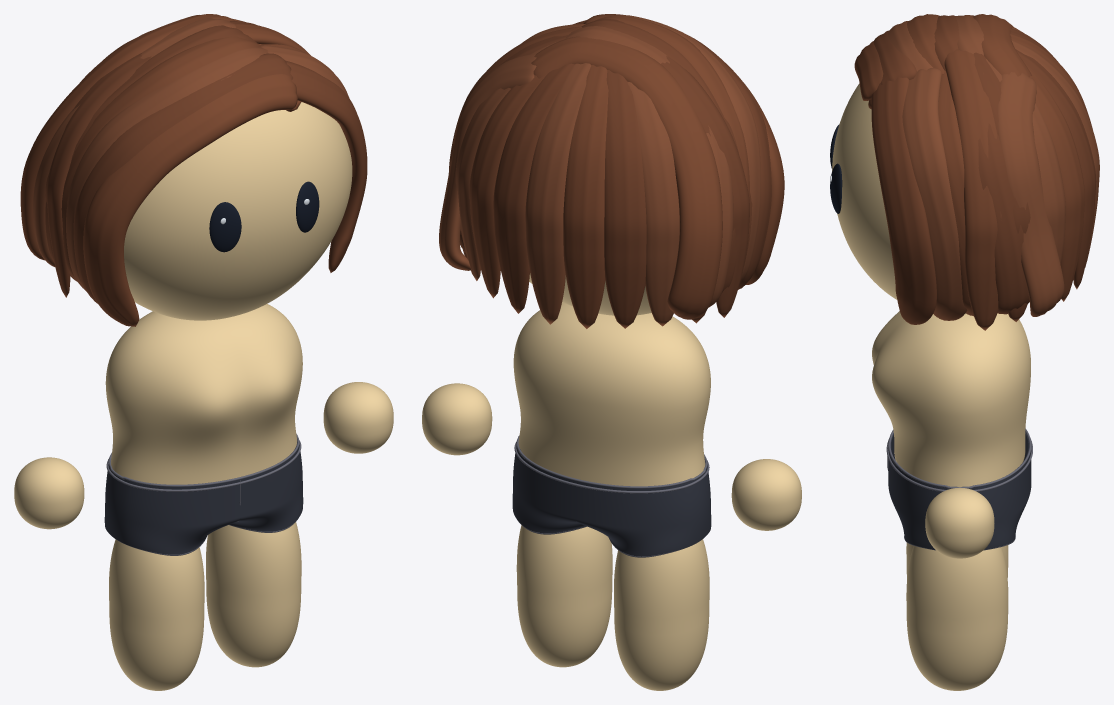
Rendered from Feminine-base.glb.
3 renders of one model, left to right at view 1: azimuth 30°, elevation 25°; view 2: azimuth 150°, elevation 25°; view 3: azimuth 270°, elevation 25°, orthographic.
Visible parts, largest first — view 1: Skin / soft oval head, Skin / rounded torso, Hair / Bob / side sweep 0, Skin / leg blob -1, Skin / leg blob 1, Clothing / fixed shorts, Hair / Bob / side sweep 1, Hair / Bob / side sweep 2, Hair / Bob / side sweep 7, Hair / Bob / side sweep 22, Hair / Bob / side sweep 3, Hair / Bob / side sweep 6 (+10 smaller); view 2: Skin / rounded torso, Hair / Bob / side sweep 6, Skin / leg blob -1, Clothing / fixed shorts, Skin / leg blob 1, Hair / Bob / side sweep 19, Hair / Bob / side sweep 18, Hair / Bob / side sweep 17, Hair / Bob / side sweep 16, Hair / Bob / side sweep 20, Hair / Bob / side sweep 15, Hair / Bob / side sweep 22 (+14 smaller); view 3: Skin / rounded torso, Skin / leg blob 1, Hair / Bob / side sweep 7, Hair / Bob / side sweep 12, Hair / Bob / side sweep 11, Hair / Bob / side sweep 8, Skin / soft oval head, Clothing / fixed shorts, Hair / Bob / side sweep 10, Skin / orb hand 1, Hair / Bob / side sweep 15, Hair / Bob / side sweep 16 (+15 smaller).
Part boxes in pixels (x1=…): Skin / soft oval head: x1=124, y1=102, x2=352, y2=320; Skin / rounded torso: x1=105, y1=304, x2=302, y2=484; Hair / Bob / side sweep 0: x1=83, y1=74, x2=301, y2=326; Skin / leg blob -1: x1=109, y1=539, x2=204, y2=690; Skin / leg blob 1: x1=206, y1=522, x2=301, y2=667; Clothing / fixed shorts: x1=104, y1=445, x2=303, y2=554; Hair / Bob / side sweep 1: x1=73, y1=53, x2=292, y2=303; Hair / Bob / side sweep 2: x1=66, y1=47, x2=268, y2=290; Hair / Bob / side sweep 7: x1=286, y1=61, x2=367, y2=272; Hair / Bob / side sweep 22: x1=45, y1=53, x2=151, y2=297; Hair / Bob / side sweep 3: x1=61, y1=36, x2=260, y2=281; Hair / Bob / side sweep 6: x1=20, y1=14, x2=235, y2=260; Skin / rounded torso: x1=513, y1=302, x2=710, y2=486; Hair / Bob / side sweep 6: x1=531, y1=36, x2=722, y2=319; Skin / leg blob -1: x1=614, y1=539, x2=709, y2=690; Clothing / fixed shorts: x1=512, y1=446, x2=711, y2=556; Skin / leg blob 1: x1=516, y1=525, x2=612, y2=667; Hair / Bob / side sweep 19: x1=604, y1=70, x2=646, y2=328; Hair / Bob / side sweep 18: x1=563, y1=65, x2=608, y2=328; Hair / Bob / side sweep 17: x1=525, y1=63, x2=591, y2=324; Hair / Bob / side sweep 16: x1=493, y1=63, x2=574, y2=313; Hair / Bob / side sweep 20: x1=627, y1=82, x2=679, y2=326; Hair / Bob / side sweep 15: x1=469, y1=74, x2=547, y2=298; Hair / Bob / side sweep 22: x1=661, y1=56, x2=749, y2=317; Skin / rounded torso: x1=872, y1=311, x2=1030, y2=486; Skin / leg blob 1: x1=906, y1=546, x2=1008, y2=690; Hair / Bob / side sweep 7: x1=871, y1=77, x2=936, y2=324; Hair / Bob / side sweep 12: x1=944, y1=49, x2=1001, y2=330; Hair / Bob / side sweep 11: x1=997, y1=72, x2=1064, y2=316; Hair / Bob / side sweep 8: x1=902, y1=68, x2=967, y2=320; Skin / soft oval head: x1=832, y1=83, x2=966, y2=314; Clothing / fixed shorts: x1=888, y1=433, x2=1031, y2=549; Hair / Bob / side sweep 10: x1=978, y1=123, x2=1029, y2=314; Skin / orb hand 1: x1=925, y1=487, x2=994, y2=558; Hair / Bob / side sweep 15: x1=1028, y1=68, x2=1084, y2=301; Hair / Bob / side sweep 16: x1=1015, y1=49, x2=1096, y2=289.
Size of the model in its own units: 1.35 by 2.25 by 0.8655.
